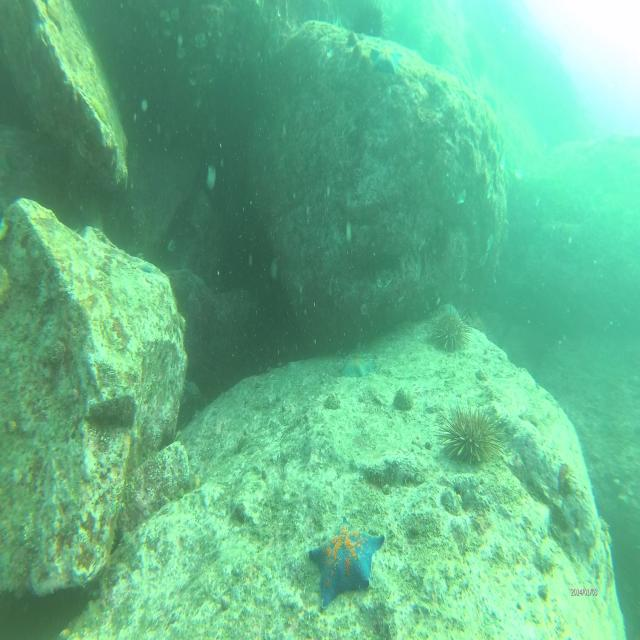echinus: (438, 398, 512, 470), (429, 301, 476, 351), (351, 1, 386, 38)
starfish: (308, 520, 386, 608), (371, 41, 403, 80)
